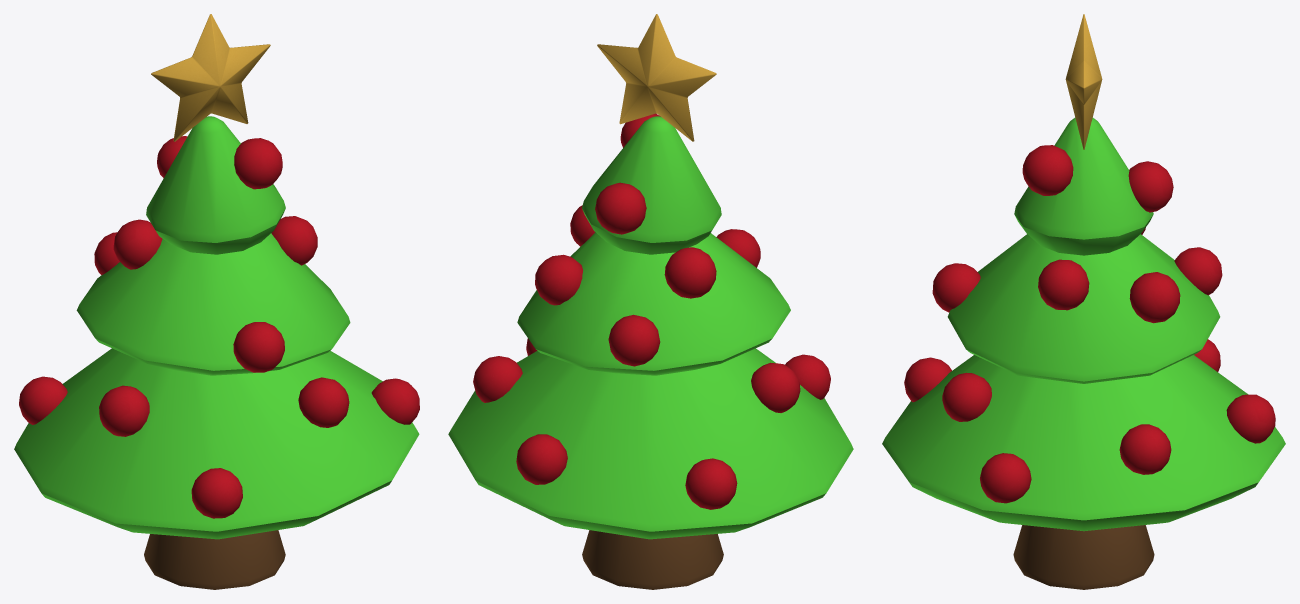
Rendered from ArbolDeNavidad.obj.
The picture shows the model from 3 angles, left to right: view 1: azimuth 30°, elevation 25°; view 2: azimuth 150°, elevation 25°; view 3: azimuth 270°, elevation 25°; orthographic projection.
Visible parts, largest first — view 1: Tree_Circle, Balls_Roundcube, Log, Star_Star_001; view 2: Tree_Circle, Balls_Roundcube, Log, Star_Star_001; view 3: Tree_Circle, Balls_Roundcube, Log, Star_Star_001.
Boxes of the visible parts, <box> form: Tree_Circle: <box>14,116,419,539</box>; Balls_Roundcube: <box>19,136,419,518</box>; Log: <box>144,530,285,589</box>; Star_Star_001: <box>151,14,270,141</box>; Tree_Circle: <box>448,116,853,539</box>; Balls_Roundcube: <box>473,113,830,509</box>; Log: <box>582,530,723,589</box>; Star_Star_001: <box>597,14,716,141</box>; Tree_Circle: <box>882,117,1285,531</box>; Balls_Roundcube: <box>904,145,1275,503</box>; Log: <box>1013,525,1154,589</box>; Star_Star_001: <box>1065,14,1102,149</box>.
Bounding box in the file's own units: 1.11 × 1.66 × 1.11.
4 materials, 4 textured.
